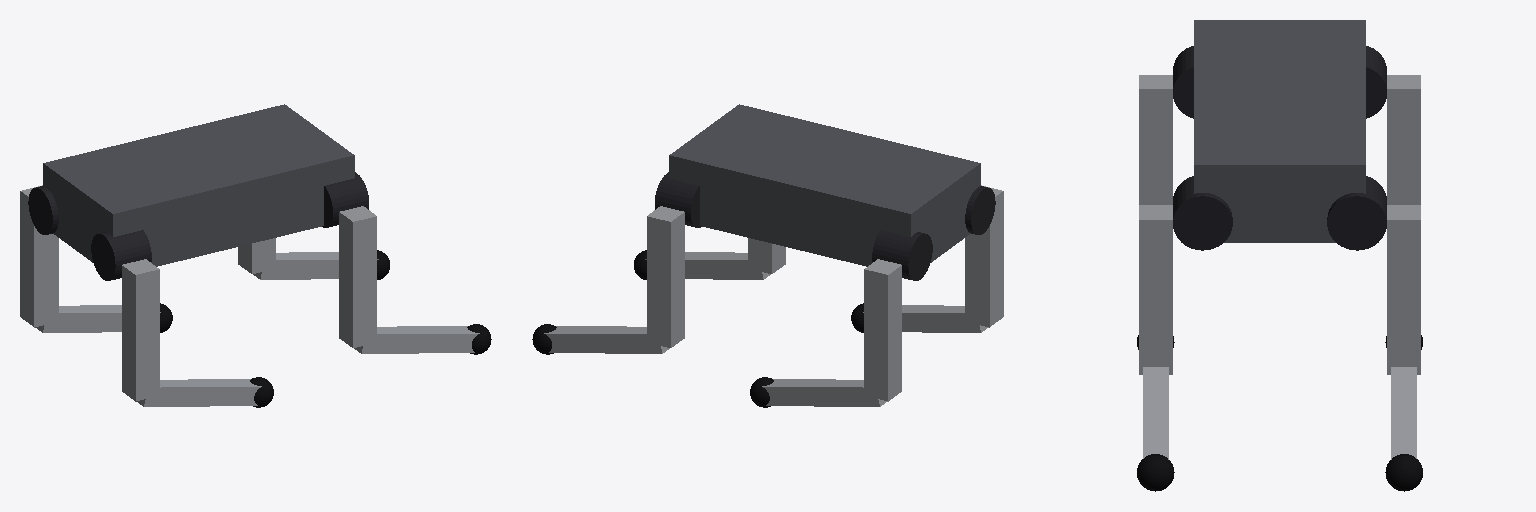
The robot description file, URDF, robot "walker":
<?xml version="1.0"?>
<!--
  walker: a four-legged robot description for the capability ladder's T3.

  Authored by this benchmark's own maintainers. It is not a vendor model and
  it is not a copy of one: no column gets credit for shipping a first-party
  model of it, and no column is disadvantaged by not having one. That is a
  deliberate trade and it is recorded in meta.json rather than hidden.

  PRIMITIVE GEOMETRY ONLY. Every link is a box, a cylinder or a sphere. There
  is not one mesh in this file and not one external reference, for the reason
  T2's container states: capability-ladder-plan.md section 9 Q4 names the risk
  that a column fails a tier on a mesh-decoding quirk and the grid reads as a
  capability verdict. T1's container carries COLLADA meshes and lives with that
  risk on the record; this tier must not compound it.

  Layout: one base and four identical legs, each with three revolute joints:
  hip abduction (about x), hip flexion (about y), knee (about y). 13 links, 12
  joints, NO fixed joints anywhere. The absence of fixed joints is deliberate:
  an importer that fuses welded bodies would erase a named foot link, and T3.3
  counts make-and-break contact transitions PER CONTACTING BODY. The shank
  carries its own foot sphere and stays a named body on every column.

  Collision geometry is on the base and on the four foot spheres only. Thighs
  and shanks are visual. This is the standard modelling choice for a legged
  robot and it is stated rather than assumed: a column that reports contacts
  will report them naming shank_fl / shank_fr / shank_rl / shank_rr and
  base_link, and nothing else on this robot can touch anything.

  Standing geometry (a fact about this file, not a recommended pose):
  hip flexion 0.60 rad with knee -1.20 rad puts each foot 0.330 m below its
  hip, which places the base about 0.372 m above the ground. Each leg reaches
  between 0.040 m and 0.396 m from hip to foot centre.

  This file describes a robot and nothing else. No world, no ground, no light,
  no actuator, no motion plan.

  NOTE ON XML COMMENTS: a double hyphen is illegal inside an XML comment and a
  strict reader rejects the whole file for one, while several simulators'
  URDF paths are not schema-checked and accept it. None appears here on
  purpose. See docs/developer under 'validate URDF XML before sim runs'.
-->
<robot name="walker">

  <!-- ============================ base ============================ -->
  <link name="base_link">
    <inertial>
      <origin xyz="0 0 0" rpy="0 0 0"/>
      <mass value="6.0"/>
      <inertia ixx="0.025" ixy="0" ixz="0" iyy="0.085" iyz="0" izz="0.100"/>
    </inertial>
    <visual>
      <origin xyz="0 0 0" rpy="0 0 0"/>
      <geometry><box size="0.40 0.20 0.10"/></geometry>
      <material name="body_grey"><color rgba="0.35 0.36 0.38 1.0"/></material>
    </visual>
    <collision>
      <origin xyz="0 0 0" rpy="0 0 0"/>
      <geometry><box size="0.40 0.20 0.10"/></geometry>
    </collision>
  </link>

  <!-- ========================== front left ========================== -->
  <link name="hip_fl">
    <inertial>
      <origin xyz="0 0 0" rpy="0 0 0"/>
      <mass value="0.35"/>
      <inertia ixx="0.000248" ixy="0" ixz="0" iyy="0.000286" iyz="0"
               izz="0.000248"/>
    </inertial>
    <visual>
      <origin xyz="0 0 0" rpy="0 1.5708 0"/>
      <geometry><cylinder radius="0.035" length="0.06"/></geometry>
      <material name="joint_dark"><color rgba="0.18 0.18 0.20 1.0"/></material>
    </visual>
  </link>
  <joint name="hip_fl_joint" type="revolute">
    <parent link="base_link"/>
    <child link="hip_fl"/>
    <origin xyz="0.18 0.09 -0.02" rpy="0 0 0"/>
    <axis xyz="1 0 0"/>
    <limit lower="-0.70" upper="0.70" effort="25.0" velocity="20.0"/>
    <dynamics damping="0.05" friction="0.0"/>
  </joint>

  <link name="thigh_fl">
    <inertial>
      <origin xyz="0 0 -0.10" rpy="0 0 0"/>
      <mass value="0.60"/>
      <inertia ixx="0.00208" ixy="0" ixz="0" iyy="0.00208" iyz="0"
               izz="0.00016"/>
    </inertial>
    <visual>
      <origin xyz="0 0 -0.10" rpy="0 0 0"/>
      <geometry><box size="0.04 0.04 0.20"/></geometry>
      <material name="limb_light"><color rgba="0.62 0.63 0.65 1.0"/></material>
    </visual>
  </link>
  <joint name="thigh_fl_joint" type="revolute">
    <parent link="hip_fl"/>
    <child link="thigh_fl"/>
    <origin xyz="0 0.055 0" rpy="0 0 0"/>
    <axis xyz="0 1 0"/>
    <limit lower="-1.60" upper="1.60" effort="30.0" velocity="20.0"/>
    <dynamics damping="0.05" friction="0.0"/>
  </joint>

  <link name="shank_fl">
    <inertial>
      <origin xyz="0 0 -0.09" rpy="0 0 0"/>
      <mass value="0.25"/>
      <inertia ixx="0.000852" ixy="0" ixz="0" iyy="0.000852" iyz="0"
               izz="0.0000375"/>
    </inertial>
    <visual>
      <origin xyz="0 0 -0.10" rpy="0 0 0"/>
      <geometry><box size="0.03 0.03 0.20"/></geometry>
      <material name="limb_light"/>
    </visual>
    <visual>
      <origin xyz="0 0 -0.20" rpy="0 0 0"/>
      <geometry><sphere radius="0.022"/></geometry>
      <material name="foot_dark"><color rgba="0.10 0.10 0.11 1.0"/></material>
    </visual>
    <collision>
      <origin xyz="0 0 -0.20" rpy="0 0 0"/>
      <geometry><sphere radius="0.022"/></geometry>
    </collision>
  </link>
  <joint name="knee_fl_joint" type="revolute">
    <parent link="thigh_fl"/>
    <child link="shank_fl"/>
    <origin xyz="0 0 -0.20" rpy="0 0 0"/>
    <axis xyz="0 1 0"/>
    <limit lower="-2.50" upper="-0.20" effort="35.0" velocity="20.0"/>
    <dynamics damping="0.05" friction="0.0"/>
  </joint>

  <!-- ========================== front right ========================= -->
  <link name="hip_fr">
    <inertial>
      <origin xyz="0 0 0" rpy="0 0 0"/>
      <mass value="0.35"/>
      <inertia ixx="0.000248" ixy="0" ixz="0" iyy="0.000286" iyz="0"
               izz="0.000248"/>
    </inertial>
    <visual>
      <origin xyz="0 0 0" rpy="0 1.5708 0"/>
      <geometry><cylinder radius="0.035" length="0.06"/></geometry>
      <material name="joint_dark"/>
    </visual>
  </link>
  <joint name="hip_fr_joint" type="revolute">
    <parent link="base_link"/>
    <child link="hip_fr"/>
    <origin xyz="0.18 -0.09 -0.02" rpy="0 0 0"/>
    <axis xyz="1 0 0"/>
    <limit lower="-0.70" upper="0.70" effort="25.0" velocity="20.0"/>
    <dynamics damping="0.05" friction="0.0"/>
  </joint>

  <link name="thigh_fr">
    <inertial>
      <origin xyz="0 0 -0.10" rpy="0 0 0"/>
      <mass value="0.60"/>
      <inertia ixx="0.00208" ixy="0" ixz="0" iyy="0.00208" iyz="0"
               izz="0.00016"/>
    </inertial>
    <visual>
      <origin xyz="0 0 -0.10" rpy="0 0 0"/>
      <geometry><box size="0.04 0.04 0.20"/></geometry>
      <material name="limb_light"/>
    </visual>
  </link>
  <joint name="thigh_fr_joint" type="revolute">
    <parent link="hip_fr"/>
    <child link="thigh_fr"/>
    <origin xyz="0 -0.055 0" rpy="0 0 0"/>
    <axis xyz="0 1 0"/>
    <limit lower="-1.60" upper="1.60" effort="30.0" velocity="20.0"/>
    <dynamics damping="0.05" friction="0.0"/>
  </joint>

  <link name="shank_fr">
    <inertial>
      <origin xyz="0 0 -0.09" rpy="0 0 0"/>
      <mass value="0.25"/>
      <inertia ixx="0.000852" ixy="0" ixz="0" iyy="0.000852" iyz="0"
               izz="0.0000375"/>
    </inertial>
    <visual>
      <origin xyz="0 0 -0.10" rpy="0 0 0"/>
      <geometry><box size="0.03 0.03 0.20"/></geometry>
      <material name="limb_light"/>
    </visual>
    <visual>
      <origin xyz="0 0 -0.20" rpy="0 0 0"/>
      <geometry><sphere radius="0.022"/></geometry>
      <material name="foot_dark"/>
    </visual>
    <collision>
      <origin xyz="0 0 -0.20" rpy="0 0 0"/>
      <geometry><sphere radius="0.022"/></geometry>
    </collision>
  </link>
  <joint name="knee_fr_joint" type="revolute">
    <parent link="thigh_fr"/>
    <child link="shank_fr"/>
    <origin xyz="0 0 -0.20" rpy="0 0 0"/>
    <axis xyz="0 1 0"/>
    <limit lower="-2.50" upper="-0.20" effort="35.0" velocity="20.0"/>
    <dynamics damping="0.05" friction="0.0"/>
  </joint>

  <!-- =========================== rear left ========================== -->
  <link name="hip_rl">
    <inertial>
      <origin xyz="0 0 0" rpy="0 0 0"/>
      <mass value="0.35"/>
      <inertia ixx="0.000248" ixy="0" ixz="0" iyy="0.000286" iyz="0"
               izz="0.000248"/>
    </inertial>
    <visual>
      <origin xyz="0 0 0" rpy="0 1.5708 0"/>
      <geometry><cylinder radius="0.035" length="0.06"/></geometry>
      <material name="joint_dark"/>
    </visual>
  </link>
  <joint name="hip_rl_joint" type="revolute">
    <parent link="base_link"/>
    <child link="hip_rl"/>
    <origin xyz="-0.18 0.09 -0.02" rpy="0 0 0"/>
    <axis xyz="1 0 0"/>
    <limit lower="-0.70" upper="0.70" effort="25.0" velocity="20.0"/>
    <dynamics damping="0.05" friction="0.0"/>
  </joint>

  <link name="thigh_rl">
    <inertial>
      <origin xyz="0 0 -0.10" rpy="0 0 0"/>
      <mass value="0.60"/>
      <inertia ixx="0.00208" ixy="0" ixz="0" iyy="0.00208" iyz="0"
               izz="0.00016"/>
    </inertial>
    <visual>
      <origin xyz="0 0 -0.10" rpy="0 0 0"/>
      <geometry><box size="0.04 0.04 0.20"/></geometry>
      <material name="limb_light"/>
    </visual>
  </link>
  <joint name="thigh_rl_joint" type="revolute">
    <parent link="hip_rl"/>
    <child link="thigh_rl"/>
    <origin xyz="0 0.055 0" rpy="0 0 0"/>
    <axis xyz="0 1 0"/>
    <limit lower="-1.60" upper="1.60" effort="30.0" velocity="20.0"/>
    <dynamics damping="0.05" friction="0.0"/>
  </joint>

  <link name="shank_rl">
    <inertial>
      <origin xyz="0 0 -0.09" rpy="0 0 0"/>
      <mass value="0.25"/>
      <inertia ixx="0.000852" ixy="0" ixz="0" iyy="0.000852" iyz="0"
               izz="0.0000375"/>
    </inertial>
    <visual>
      <origin xyz="0 0 -0.10" rpy="0 0 0"/>
      <geometry><box size="0.03 0.03 0.20"/></geometry>
      <material name="limb_light"/>
    </visual>
    <visual>
      <origin xyz="0 0 -0.20" rpy="0 0 0"/>
      <geometry><sphere radius="0.022"/></geometry>
      <material name="foot_dark"/>
    </visual>
    <collision>
      <origin xyz="0 0 -0.20" rpy="0 0 0"/>
      <geometry><sphere radius="0.022"/></geometry>
    </collision>
  </link>
  <joint name="knee_rl_joint" type="revolute">
    <parent link="thigh_rl"/>
    <child link="shank_rl"/>
    <origin xyz="0 0 -0.20" rpy="0 0 0"/>
    <axis xyz="0 1 0"/>
    <limit lower="-2.50" upper="-0.20" effort="35.0" velocity="20.0"/>
    <dynamics damping="0.05" friction="0.0"/>
  </joint>

  <!-- =========================== rear right ========================= -->
  <link name="hip_rr">
    <inertial>
      <origin xyz="0 0 0" rpy="0 0 0"/>
      <mass value="0.35"/>
      <inertia ixx="0.000248" ixy="0" ixz="0" iyy="0.000286" iyz="0"
               izz="0.000248"/>
    </inertial>
    <visual>
      <origin xyz="0 0 0" rpy="0 1.5708 0"/>
      <geometry><cylinder radius="0.035" length="0.06"/></geometry>
      <material name="joint_dark"/>
    </visual>
  </link>
  <joint name="hip_rr_joint" type="revolute">
    <parent link="base_link"/>
    <child link="hip_rr"/>
    <origin xyz="-0.18 -0.09 -0.02" rpy="0 0 0"/>
    <axis xyz="1 0 0"/>
    <limit lower="-0.70" upper="0.70" effort="25.0" velocity="20.0"/>
    <dynamics damping="0.05" friction="0.0"/>
  </joint>

  <link name="thigh_rr">
    <inertial>
      <origin xyz="0 0 -0.10" rpy="0 0 0"/>
      <mass value="0.60"/>
      <inertia ixx="0.00208" ixy="0" ixz="0" iyy="0.00208" iyz="0"
               izz="0.00016"/>
    </inertial>
    <visual>
      <origin xyz="0 0 -0.10" rpy="0 0 0"/>
      <geometry><box size="0.04 0.04 0.20"/></geometry>
      <material name="limb_light"/>
    </visual>
  </link>
  <joint name="thigh_rr_joint" type="revolute">
    <parent link="hip_rr"/>
    <child link="thigh_rr"/>
    <origin xyz="0 -0.055 0" rpy="0 0 0"/>
    <axis xyz="0 1 0"/>
    <limit lower="-1.60" upper="1.60" effort="30.0" velocity="20.0"/>
    <dynamics damping="0.05" friction="0.0"/>
  </joint>

  <link name="shank_rr">
    <inertial>
      <origin xyz="0 0 -0.09" rpy="0 0 0"/>
      <mass value="0.25"/>
      <inertia ixx="0.000852" ixy="0" ixz="0" iyy="0.000852" iyz="0"
               izz="0.0000375"/>
    </inertial>
    <visual>
      <origin xyz="0 0 -0.10" rpy="0 0 0"/>
      <geometry><box size="0.03 0.03 0.20"/></geometry>
      <material name="limb_light"/>
    </visual>
    <visual>
      <origin xyz="0 0 -0.20" rpy="0 0 0"/>
      <geometry><sphere radius="0.022"/></geometry>
      <material name="foot_dark"/>
    </visual>
    <collision>
      <origin xyz="0 0 -0.20" rpy="0 0 0"/>
      <geometry><sphere radius="0.022"/></geometry>
    </collision>
  </link>
  <joint name="knee_rr_joint" type="revolute">
    <parent link="thigh_rr"/>
    <child link="shank_rr"/>
    <origin xyz="0 0 -0.20" rpy="0 0 0"/>
    <axis xyz="0 1 0"/>
    <limit lower="-2.50" upper="-0.20" effort="35.0" velocity="20.0"/>
    <dynamics damping="0.05" friction="0.0"/>
  </joint>

</robot>

--- Render facts (derived) ---
The picture shows the robot from 3 angles, left to right: view 1: azimuth 30°, elevation 25°; view 2: azimuth 150°, elevation 25°; view 3: azimuth 270°, elevation 25°; orthographic projection.
Model walker with 13 links and 12 joints (12 revolute), rooted at base_link, posed joints at zero except 4 at the middle of their limits (knee_fl_joint = -1.35, knee_fr_joint = -1.35, knee_rl_joint = -1.35, knee_rr_joint = -1.35).
Visible links, largest first — view 1: base_link, thigh_rr, thigh_fr, thigh_rl, shank_fr, shank_rr, shank_fl, shank_rl, hip_rr, hip_fr, hip_rl, thigh_fl; view 2: base_link, thigh_rl, thigh_fl, thigh_rr, shank_fl, shank_rl, shank_fr, shank_rr, hip_rl, hip_fl, hip_rr, thigh_fr; view 3: base_link, thigh_fl, thigh_fr, thigh_rl, thigh_rr, shank_fl, shank_fr, hip_fl, hip_fr, hip_rl, hip_rr.
Link boxes in pixels (bbox=[...]): base_link: bbox=[43, 104, 354, 266]; thigh_rr: bbox=[122, 259, 159, 401]; thigh_fr: bbox=[339, 206, 376, 347]; thigh_rl: bbox=[20, 185, 58, 327]; shank_fr: bbox=[354, 324, 491, 354]; shank_rr: bbox=[136, 377, 273, 407]; shank_fl: bbox=[253, 250, 389, 279]; shank_rl: bbox=[35, 303, 172, 332]; hip_rr: bbox=[91, 230, 151, 280]; hip_fr: bbox=[322, 172, 368, 227]; hip_rl: bbox=[28, 186, 58, 234]; thigh_fl: bbox=[238, 238, 275, 273]; base_link: bbox=[669, 104, 980, 266]; thigh_rl: bbox=[864, 259, 901, 401]; thigh_fl: bbox=[647, 206, 684, 347]; thigh_rr: bbox=[965, 185, 1003, 327]; shank_fl: bbox=[532, 324, 669, 354]; shank_rl: bbox=[750, 377, 887, 407]; shank_fr: bbox=[634, 250, 770, 279]; shank_rr: bbox=[851, 303, 988, 332]; hip_rl: bbox=[872, 230, 932, 280]; hip_fl: bbox=[655, 172, 701, 227]; hip_rr: bbox=[965, 186, 995, 234]; thigh_fr: bbox=[748, 238, 785, 273]; base_link: bbox=[1194, 20, 1365, 242]; thigh_fl: bbox=[1387, 205, 1420, 374]; thigh_fr: bbox=[1139, 205, 1172, 374]; thigh_rl: bbox=[1387, 75, 1420, 204]; thigh_rr: bbox=[1139, 75, 1172, 204]; shank_fl: bbox=[1385, 367, 1422, 491]; shank_fr: bbox=[1137, 367, 1174, 491]; hip_fl: bbox=[1327, 176, 1386, 250]; hip_fr: bbox=[1173, 176, 1232, 250]; hip_rl: bbox=[1366, 46, 1386, 118]; hip_rr: bbox=[1173, 46, 1193, 118].
Size in the robot's own frame: 0.6071 by 0.334 by 0.3358 metres.
Geometry: primitives only (box / cylinder / sphere), no mesh files.
